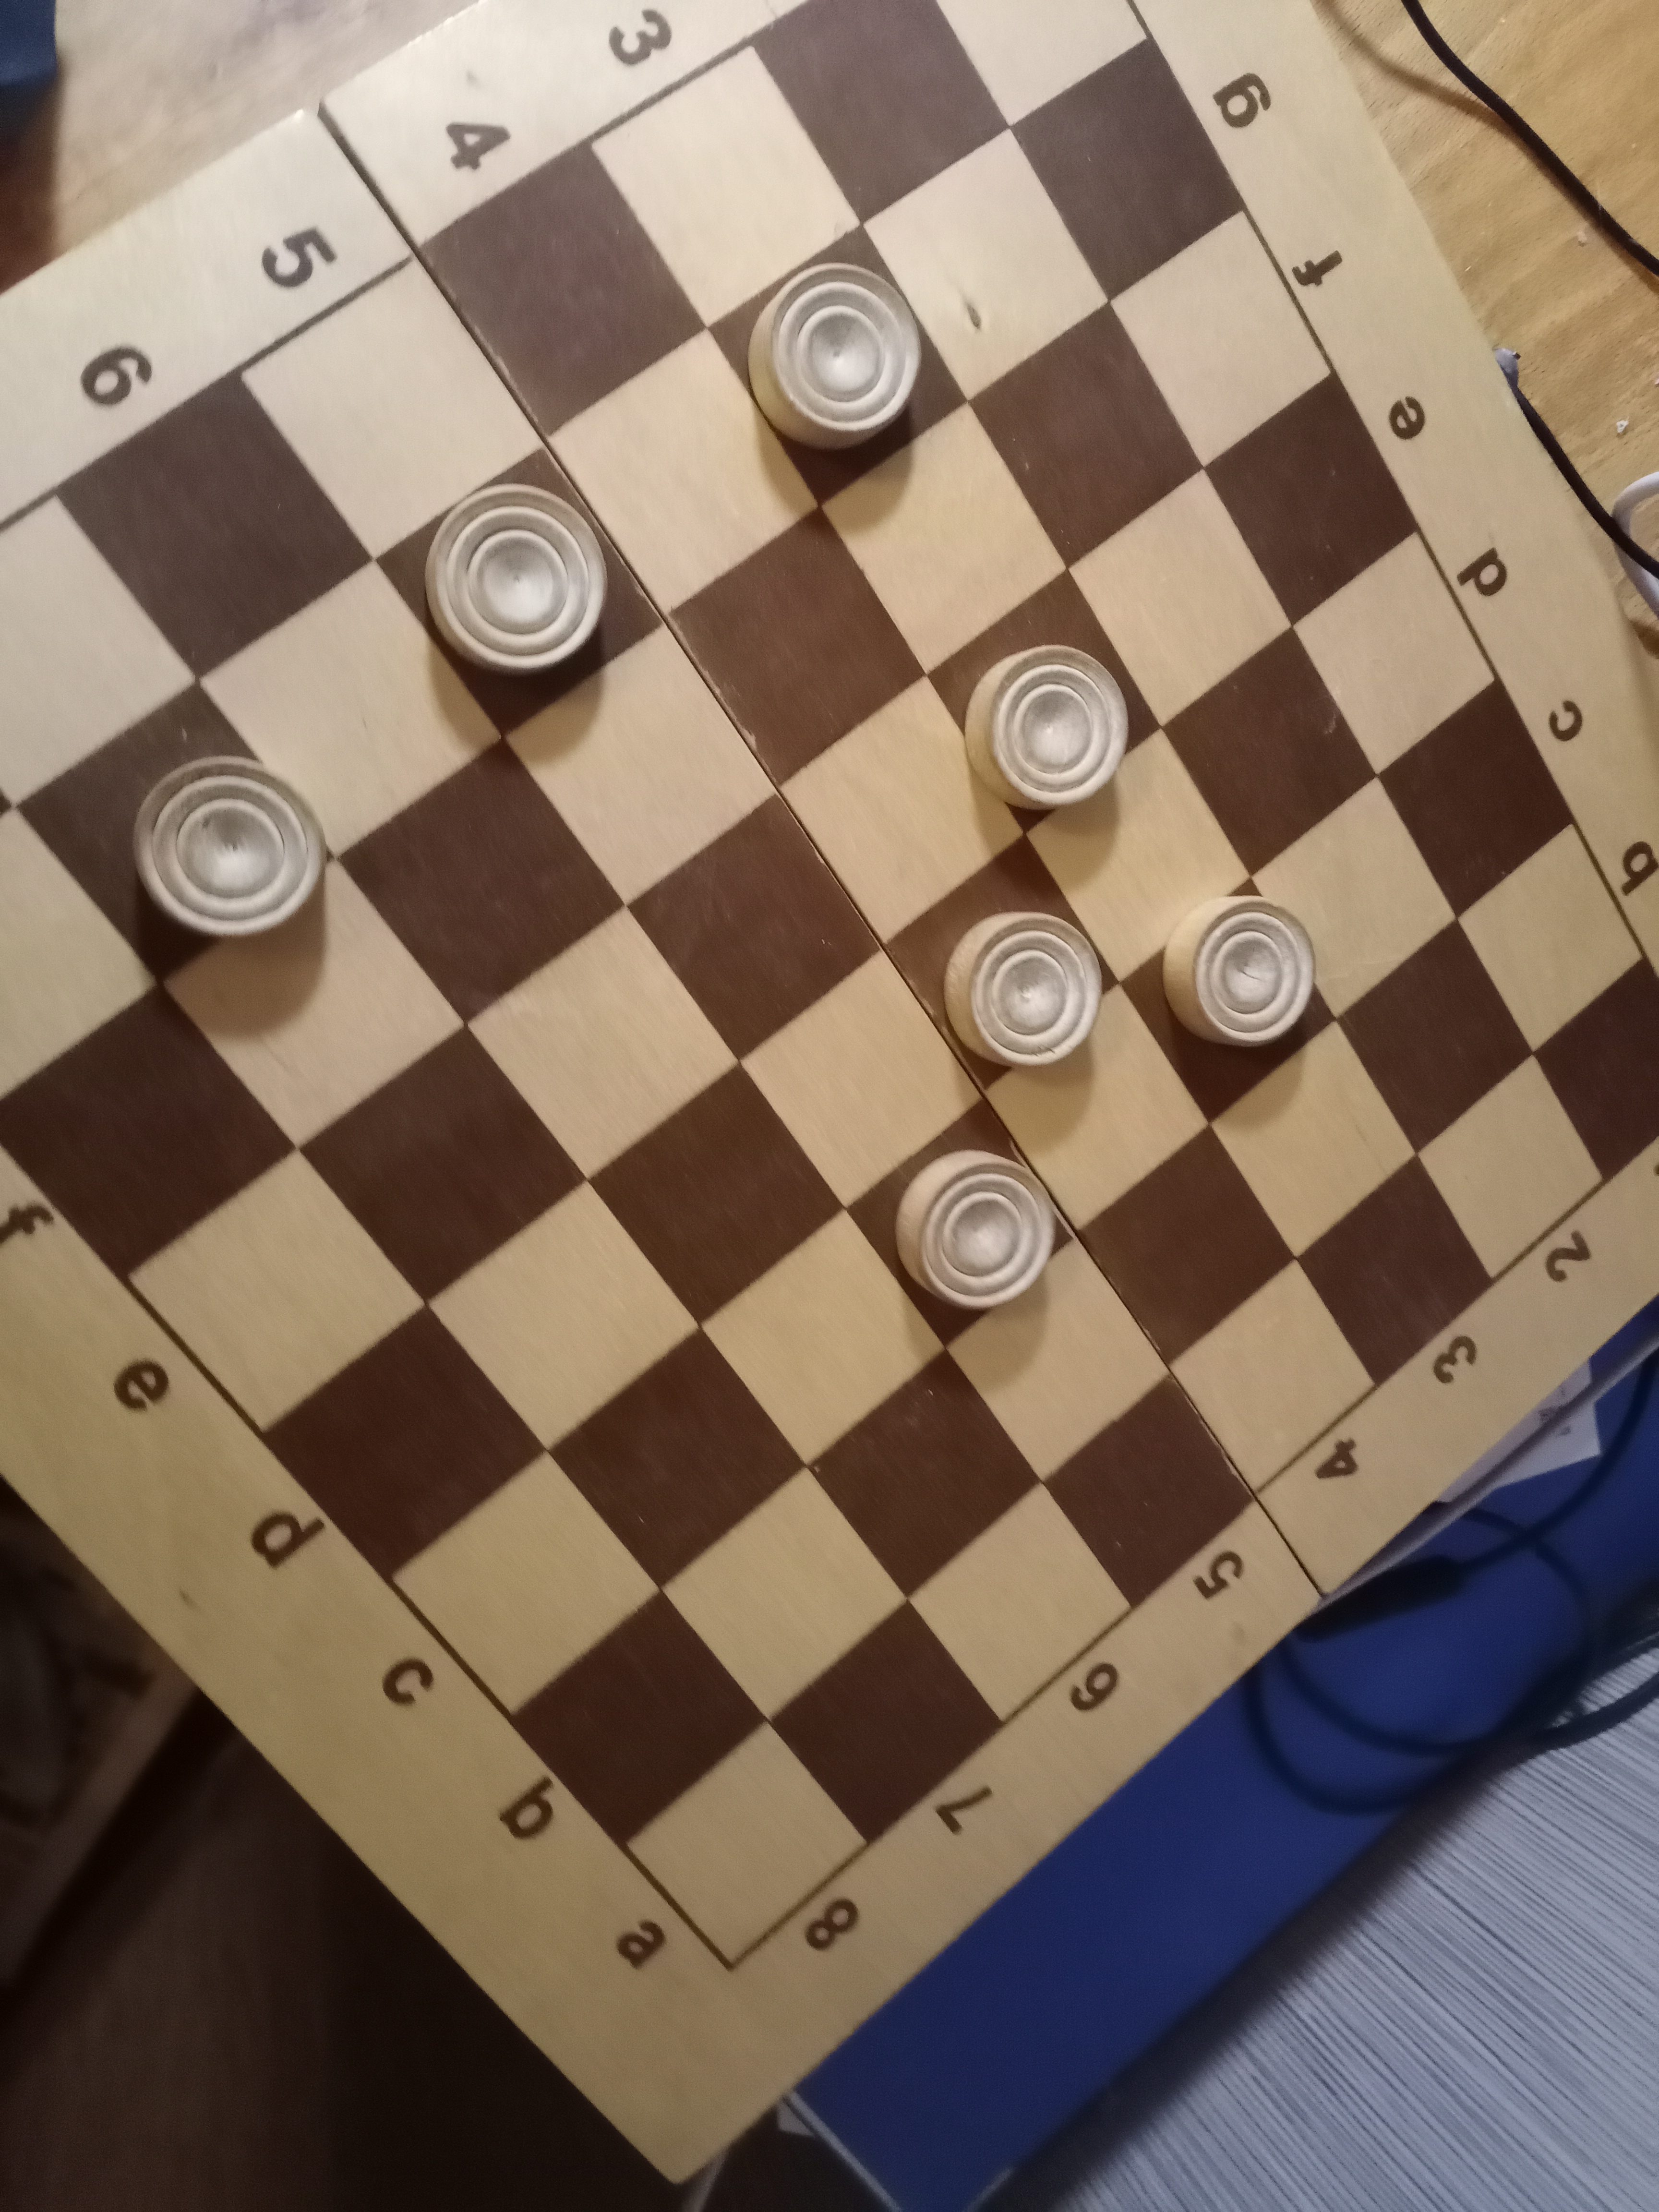White_Draught: (14, 681, 338, 982), (376, 451, 666, 737), (708, 226, 969, 507), (882, 833, 1119, 1094), (927, 570, 1162, 833), (847, 1094, 1073, 1346), (1119, 878, 1338, 1122)
